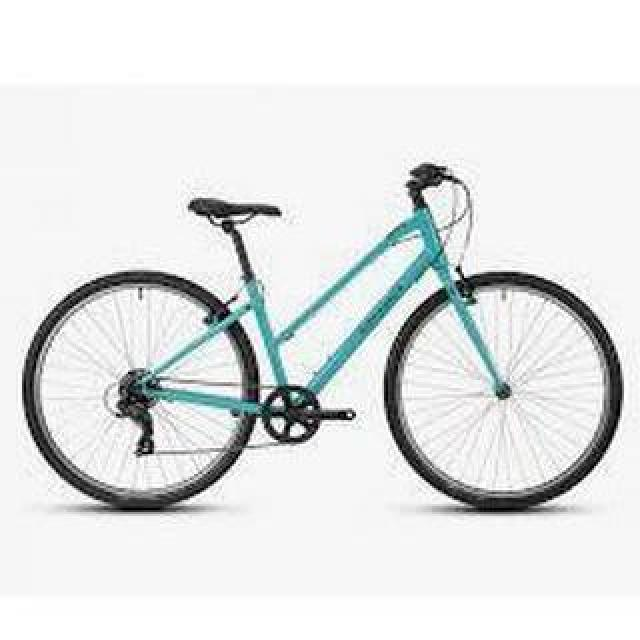Person: (23, 161, 623, 517)
